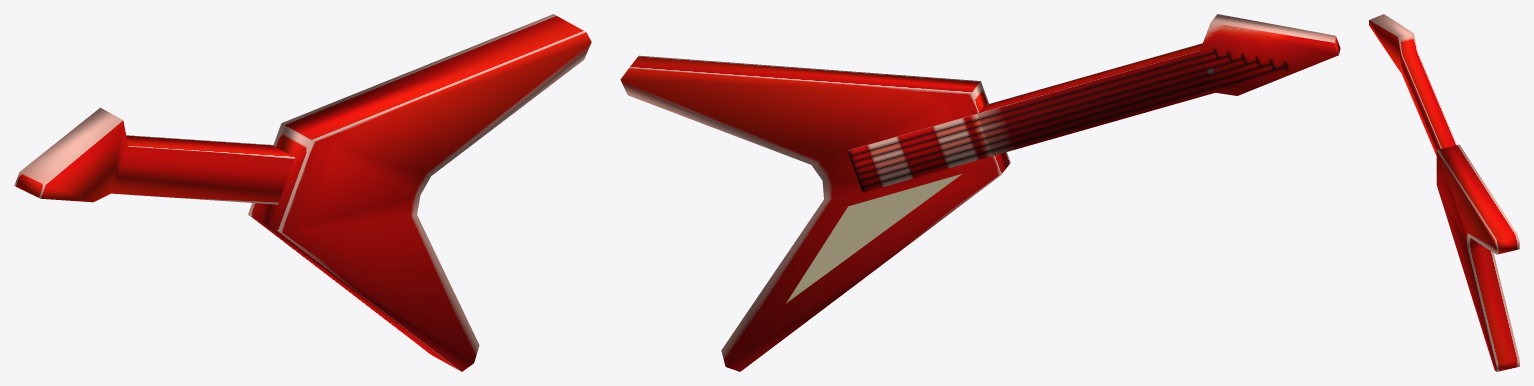
The model's file is unlocker_spike.glb.
3 renders of one model, left to right at view 1: azimuth 30°, elevation 25°; view 2: azimuth 150°, elevation 25°; view 3: azimuth 270°, elevation 25°, orthographic. The views are drawn at different scales.
Parts seen in each view (by area): view 1: unlocker_spike; view 2: unlocker_spike; view 3: unlocker_spike.
Boxes of the visible parts, box(x1,y1,x2,y2) form: unlocker_spike: box(14, 14, 591, 371); unlocker_spike: box(620, 14, 1340, 371); unlocker_spike: box(1369, 14, 1519, 371).
Size of the model in its own units: 11.02 by 6.57 by 4.
Materials: 1 (1 with a texture image).
